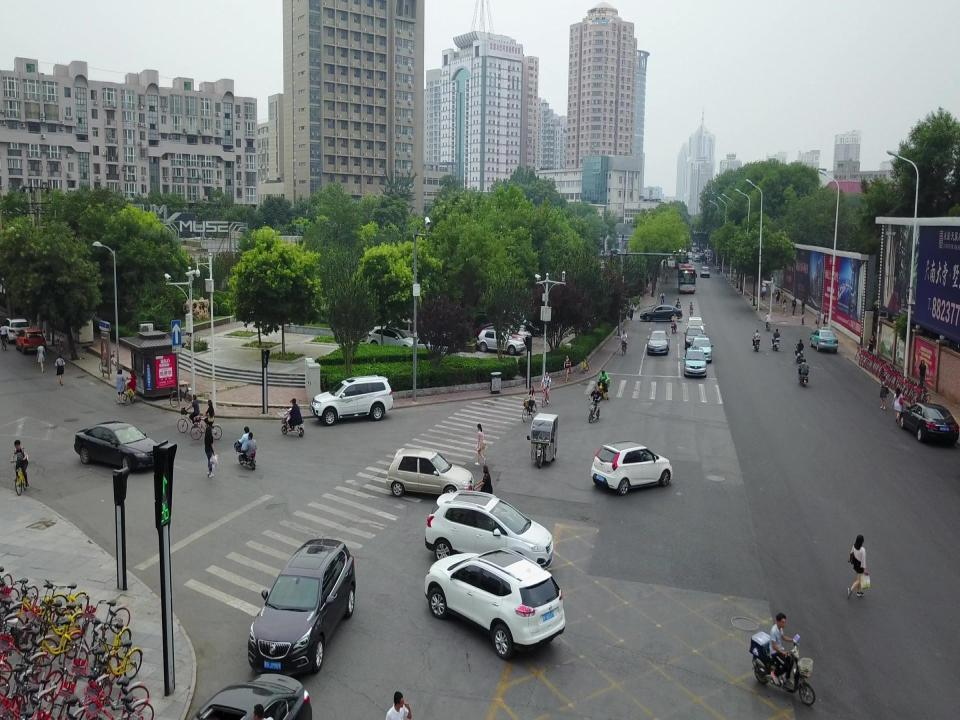bus: (677, 264, 697, 294)
car: (183, 673, 312, 720), (74, 421, 162, 472), (899, 403, 959, 443), (475, 326, 527, 350), (480, 320, 532, 342), (486, 318, 526, 340), (682, 346, 708, 378), (640, 304, 682, 322), (810, 326, 838, 352), (690, 334, 714, 363), (684, 326, 706, 350), (647, 331, 669, 355), (610, 249, 622, 255), (692, 255, 700, 262)
truck: (674, 250, 690, 269)
van: (424, 547, 566, 658), (248, 538, 356, 676), (425, 489, 553, 577), (386, 448, 474, 500), (591, 441, 672, 494), (309, 375, 393, 426), (368, 326, 416, 356), (415, 332, 459, 361), (477, 328, 525, 354), (379, 317, 423, 345), (15, 328, 47, 354), (0, 317, 30, 343), (686, 317, 706, 339), (600, 262, 616, 271), (700, 267, 710, 278), (688, 252, 692, 259), (693, 242, 697, 247)
